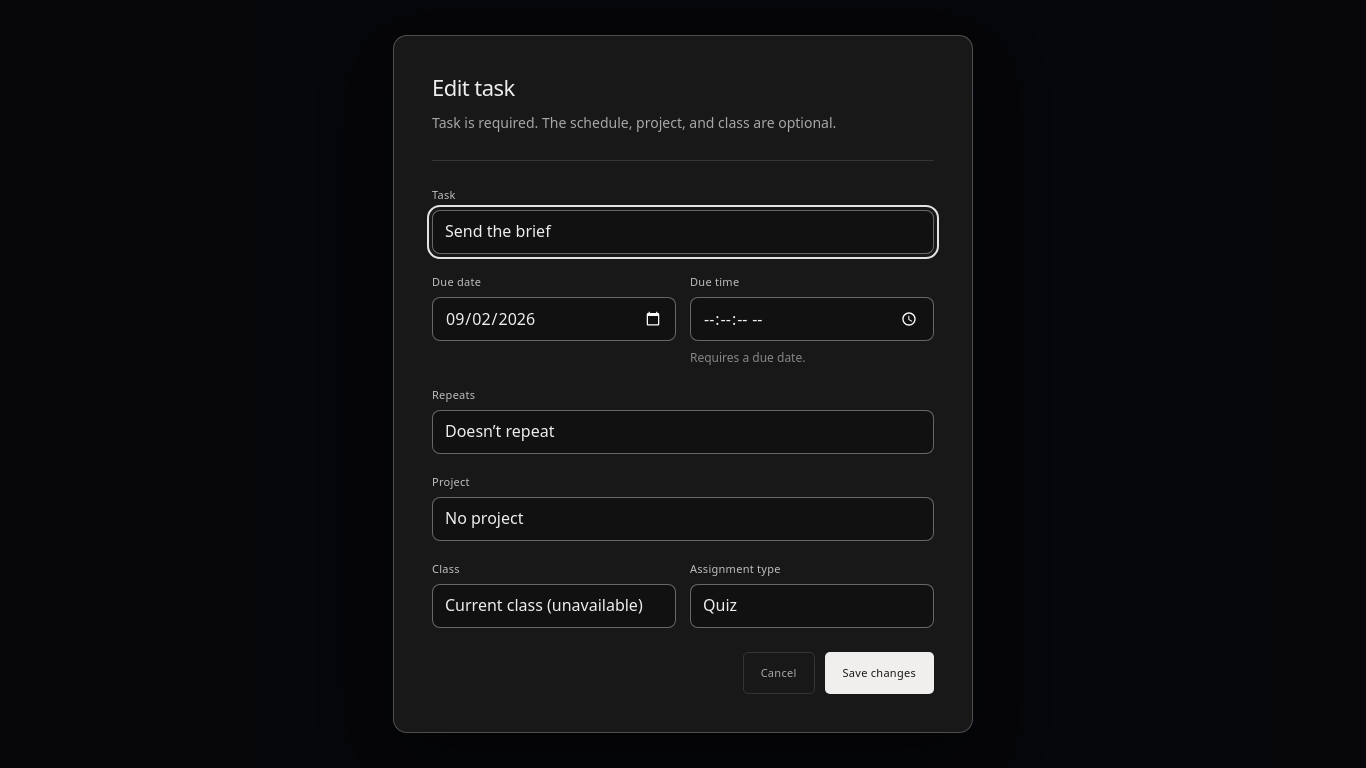
Test case: TodoFormDialog class fields › retains unavailable class context and clears it atomically when choosing a project
Later steps or results of the test are not shown.
Expected: the dropdown labelled "Class" shows "Current class (unavailable)", [432, 584, 676, 628]
Expected: the dropdown labelled "Assignment type" shows "Quiz", [690, 584, 934, 628]
Select "Launch" in the dropdown labelled "Project". click: (683,519)
box: [432, 497, 934, 541]
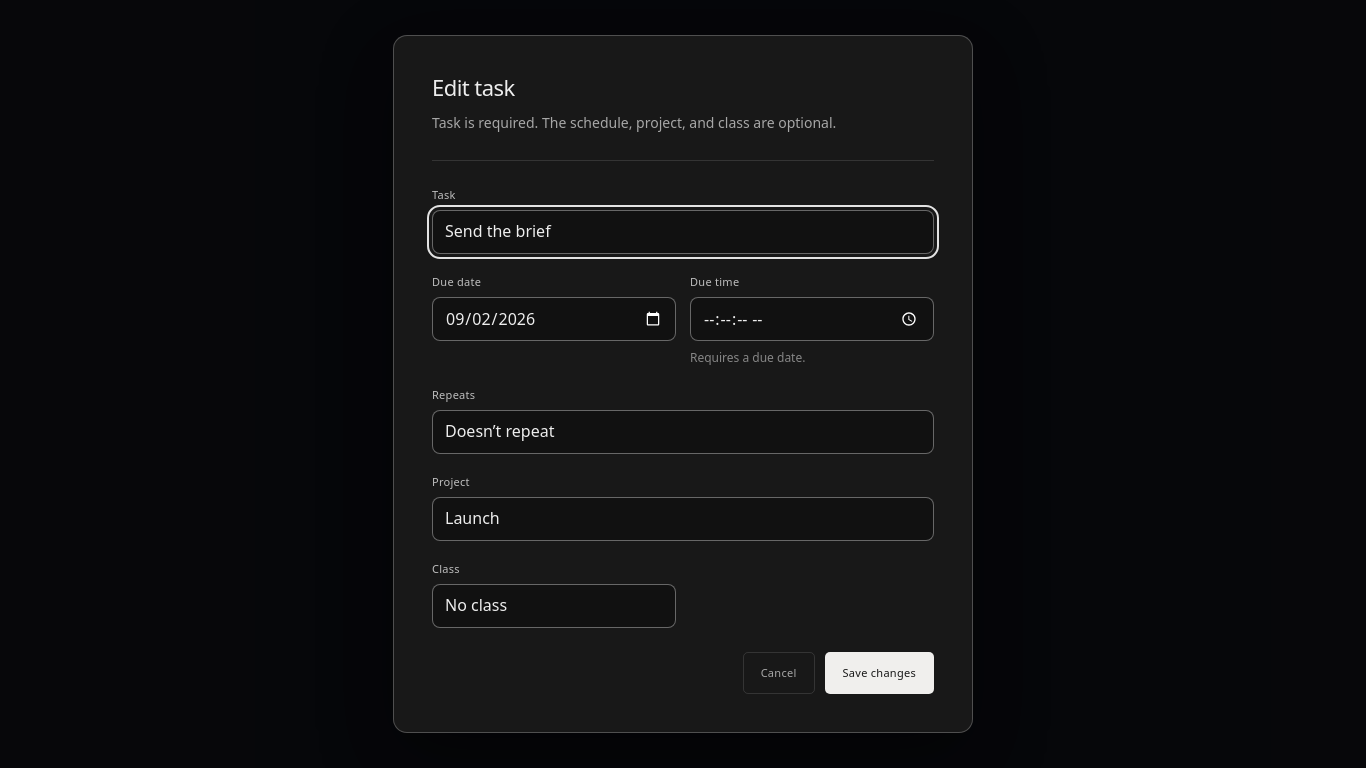
Now the label labelled "Assignment type" is gone
